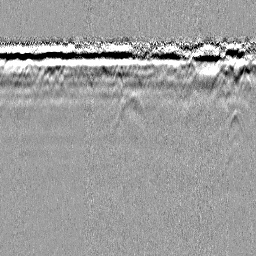cavity: (113, 85, 147, 126)
